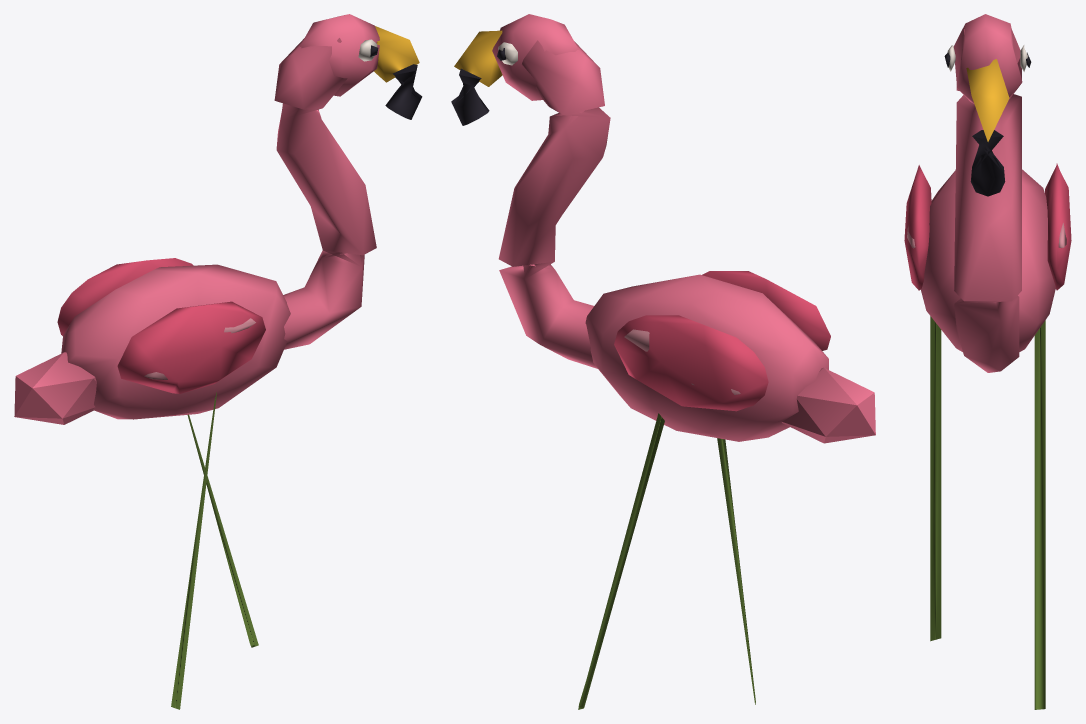
3 renders of one model, left to right at view 1: azimuth 30°, elevation 25°; view 2: azimuth 150°, elevation 25°; view 3: azimuth 270°, elevation 25°, orthographic. The views are drawn at different scales.
Parts seen in each view (by area): view 1: root_pal_flamingoPink, root_pal_flamingoCoral, root_pal_grass, root_pal_schoolBusYellow, root_pal_uiDark; view 2: root_pal_flamingoPink, root_pal_flamingoCoral, root_pal_grass, root_pal_schoolBusYellow, root_pal_uiDark; view 3: root_pal_flamingoPink, root_pal_grass, root_pal_flamingoCoral, root_pal_schoolBusYellow, root_pal_uiDark, root_pal_picketWhite.
Part boxes in pixels (box(x1,y1,x2,y2)): root_pal_flamingoPink: box(14, 14, 379, 424); root_pal_flamingoCoral: box(57, 258, 265, 393); root_pal_grass: box(171, 392, 258, 709); root_pal_schoolBusYellow: box(374, 26, 419, 82); root_pal_uiDark: box(370, 45, 422, 119); root_pal_flamingoPink: box(492, 14, 875, 443); root_pal_flamingoCoral: box(614, 271, 830, 411); root_pal_grass: box(578, 413, 755, 709); root_pal_schoolBusYellow: box(454, 30, 502, 86); root_pal_uiDark: box(451, 48, 506, 125); root_pal_flamingoPink: box(920, 14, 1055, 372); root_pal_grass: box(930, 316, 1045, 709); root_pal_flamingoCoral: box(904, 163, 1071, 290); root_pal_schoolBusYellow: box(966, 59, 1009, 141); root_pal_uiDark: box(944, 52, 1031, 196); root_pal_picketWhite: box(947, 45, 1028, 71).
Bounding box in the file's own units: 0.8734 × 1.3 × 0.2717.
